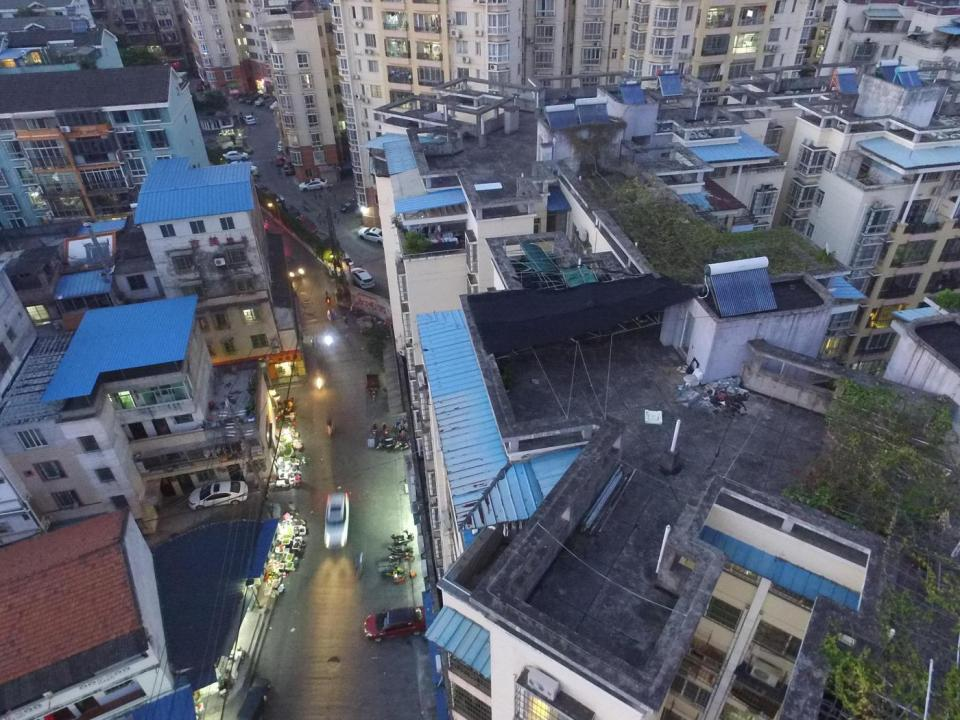car: (362, 606, 426, 643), (186, 481, 248, 512), (324, 490, 350, 549), (350, 267, 376, 289), (357, 226, 384, 245), (298, 178, 328, 192), (297, 216, 317, 234), (254, 182, 275, 197), (338, 198, 359, 213), (222, 150, 250, 161), (238, 90, 256, 103), (244, 92, 262, 105), (282, 205, 300, 218), (232, 144, 254, 154), (254, 94, 270, 106), (343, 252, 354, 268), (283, 162, 295, 176), (243, 114, 256, 125), (274, 153, 284, 167), (195, 81, 207, 92), (277, 140, 282, 151)
van: (236, 677, 272, 720)
